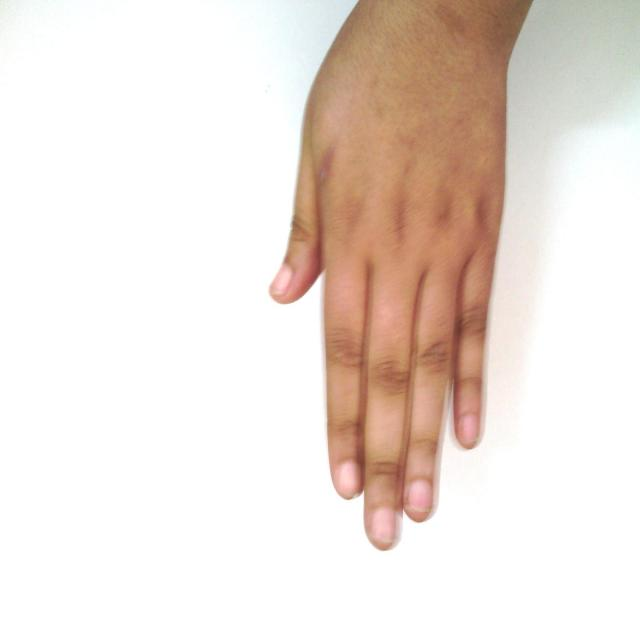others: (227, 0, 556, 551)
